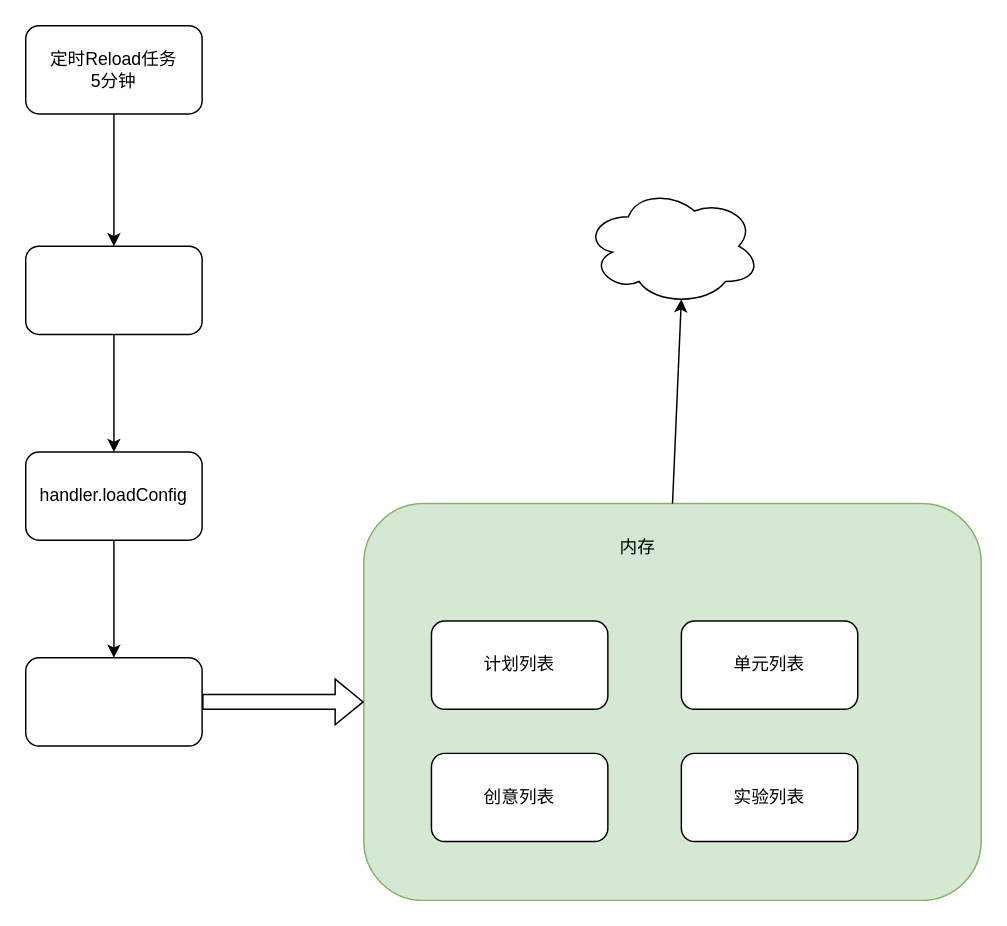
The diagram is 1007 pixels wide and 926 high, and some of its shapes have lost their labels. Here are the shapes that lost their labels. From the top down, the centre of each, then its label:
(x=672, y=245): 上层通过AdTable 读取个集合
(x=113, y=289): 返回AdTables impl LoadContentHandler
(x=113, y=701): 从缓存中加载单元、创意、计划、实验信息放入到内存中
